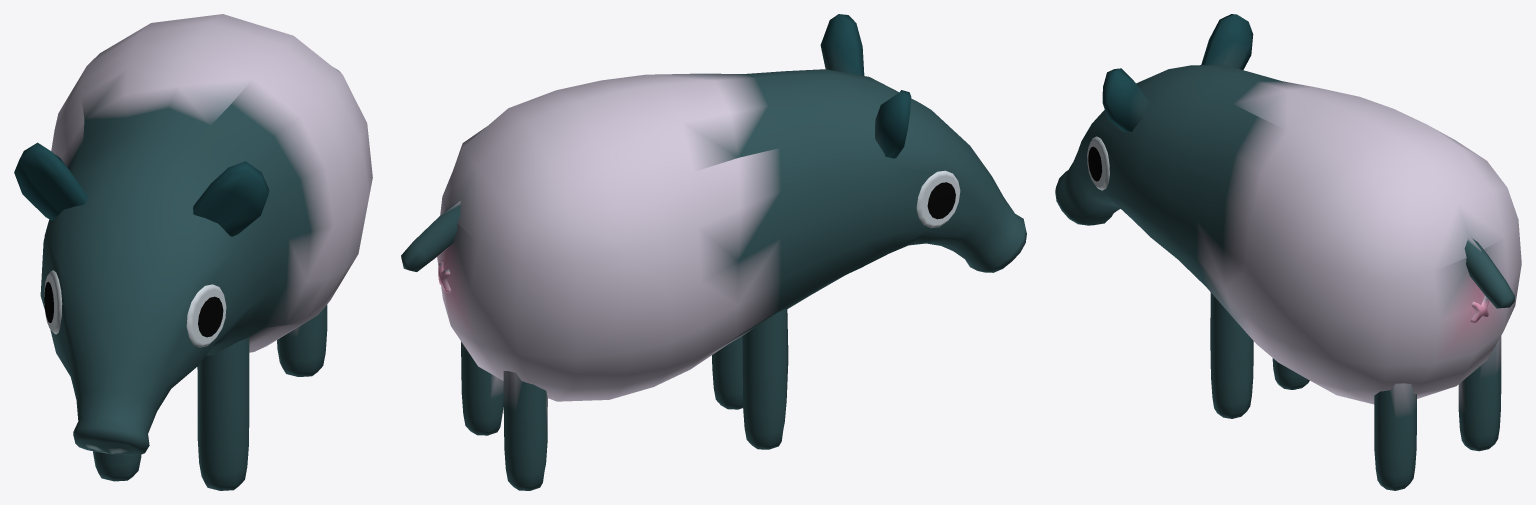
File: Tapir.glb
The picture shows the model from 3 angles, left to right: view 1: azimuth 30°, elevation 25°; view 2: azimuth 150°, elevation 25°; view 3: azimuth 270°, elevation 25°; orthographic projection. The views are drawn at different scales.
Parts seen in each view (by area): view 1: 163; view 2: 163; view 3: 163.
Boxes of the visible parts, bbox=[...] form: 163: bbox=[14, 14, 372, 490]; 163: bbox=[401, 14, 1026, 490]; 163: bbox=[1055, 14, 1521, 490].
Size of the model in its own units: 0.9953 by 0.8195 by 1.06.
